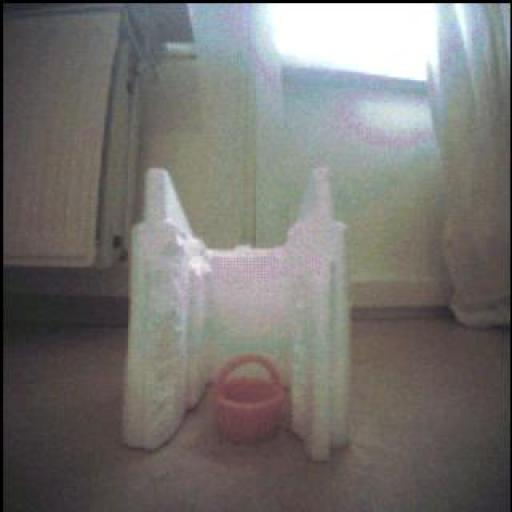Basket: (215, 355, 286, 444)
